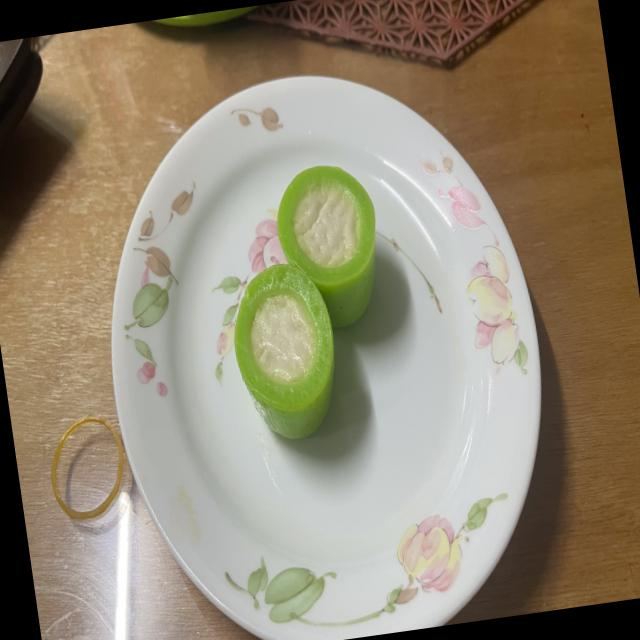nona-manis: (234, 264, 334, 439), (277, 166, 376, 327)
